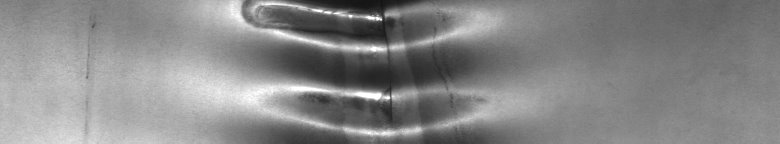ke: (240, 4, 471, 136)
